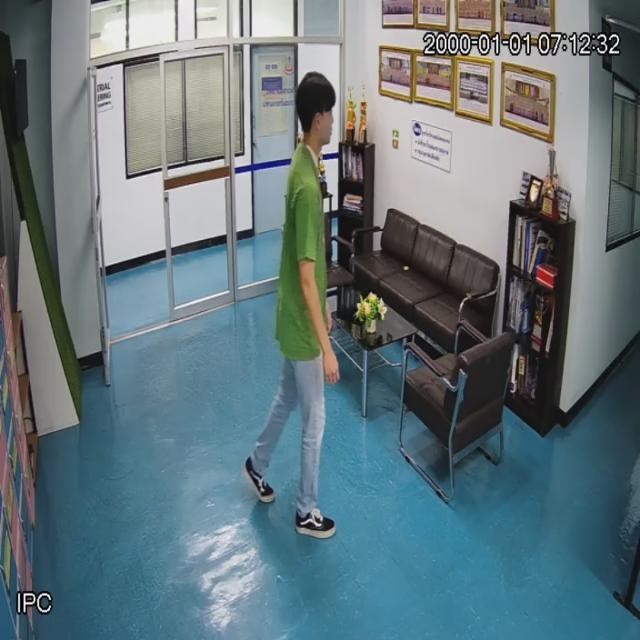normal: (249, 66, 342, 553)
